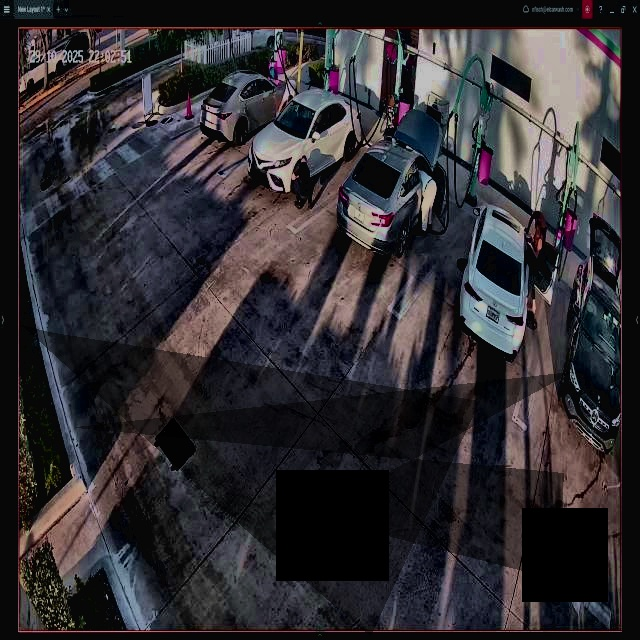Car: (336, 110, 442, 250), (249, 88, 361, 194), (463, 201, 529, 360), (199, 70, 297, 140)
